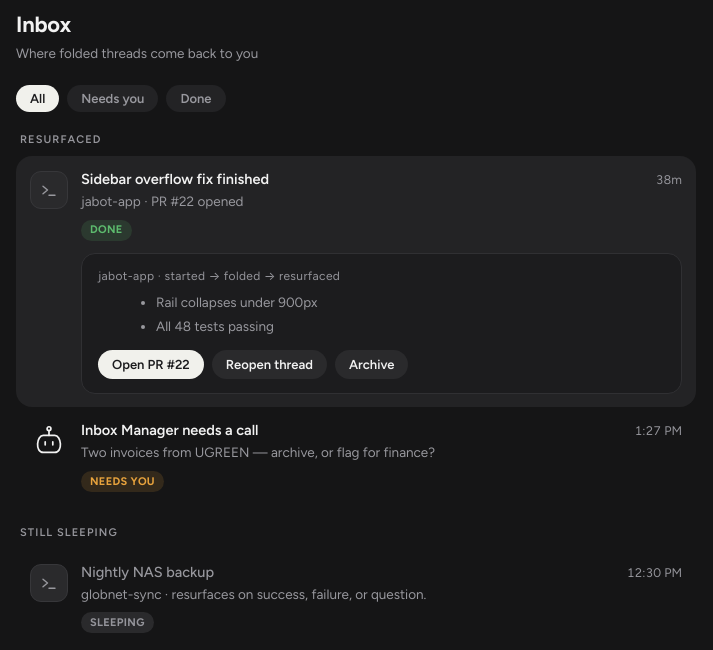
Test: InboxView › drops sleeping and finished work from Needs you
Click the tab "Needs you". click: [113, 99]
box: [67, 86, 158, 112]
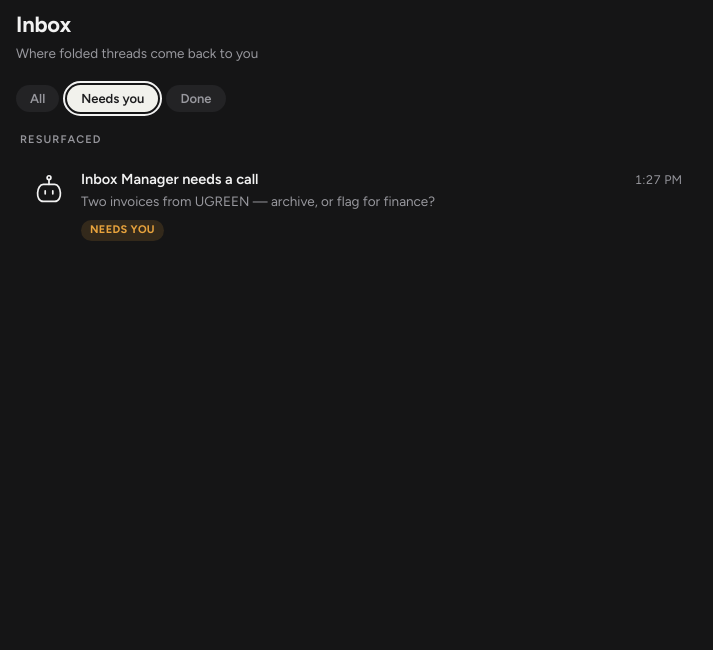
Expected: the text "Inbox Manager needs a call" is shown, [81, 169, 258, 190]
Now the button "Nightly NAS backup" is gone
Now the button "Sidebar overflow fix finished" is gone
